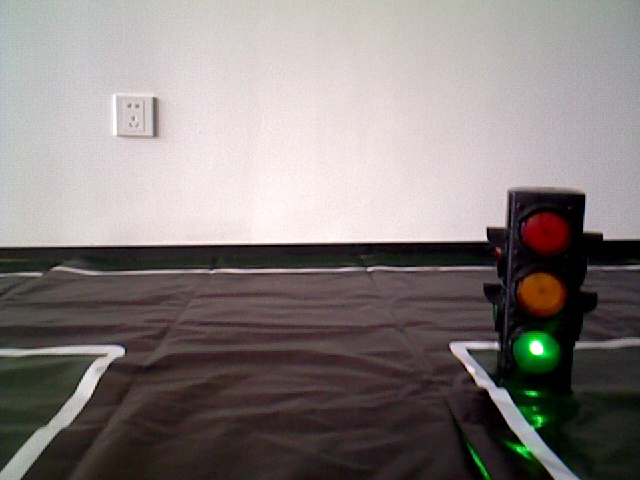green: (509, 198, 575, 376)
